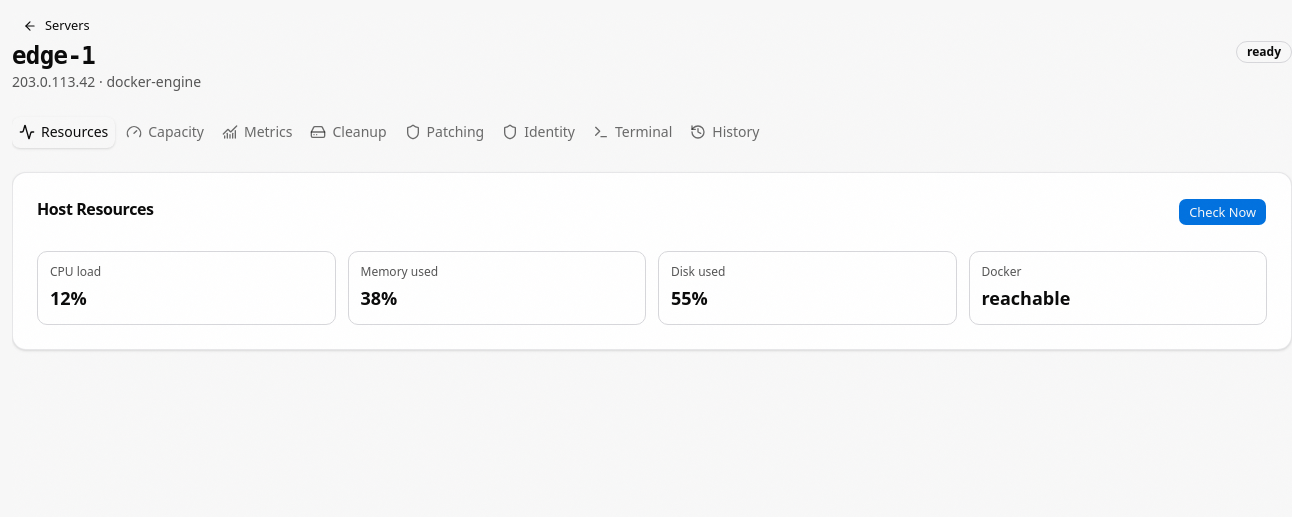
Test case: ServerDetailPage › renders the current server capacity values
The width and height of the screenshot is (1292, 517).
Click the tab with test id "server-detail-capacity-tab-srv_1" at (165, 132), box [119,116,211,148]
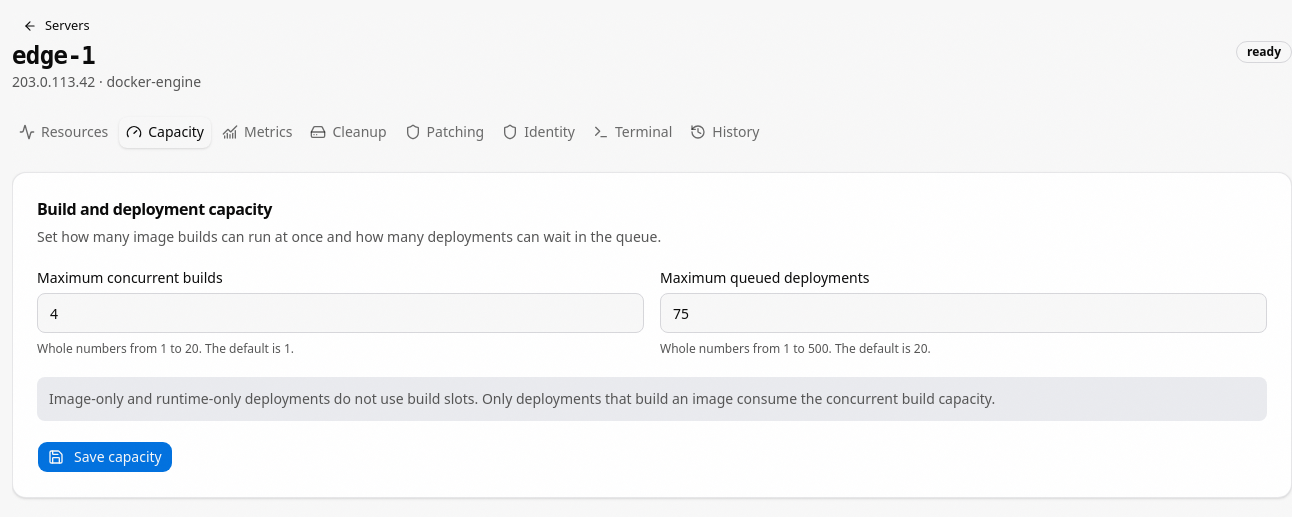
expect the element with test id "server-capacity-panel-srv_1" is shown: met
expect the number field with test id "server-capacity-builds-srv_1" holds "4": met, box [37,293,644,333]
expect the number field with test id "server-capacity-queued-srv_1" holds "75": met, box [660,293,1267,333]
